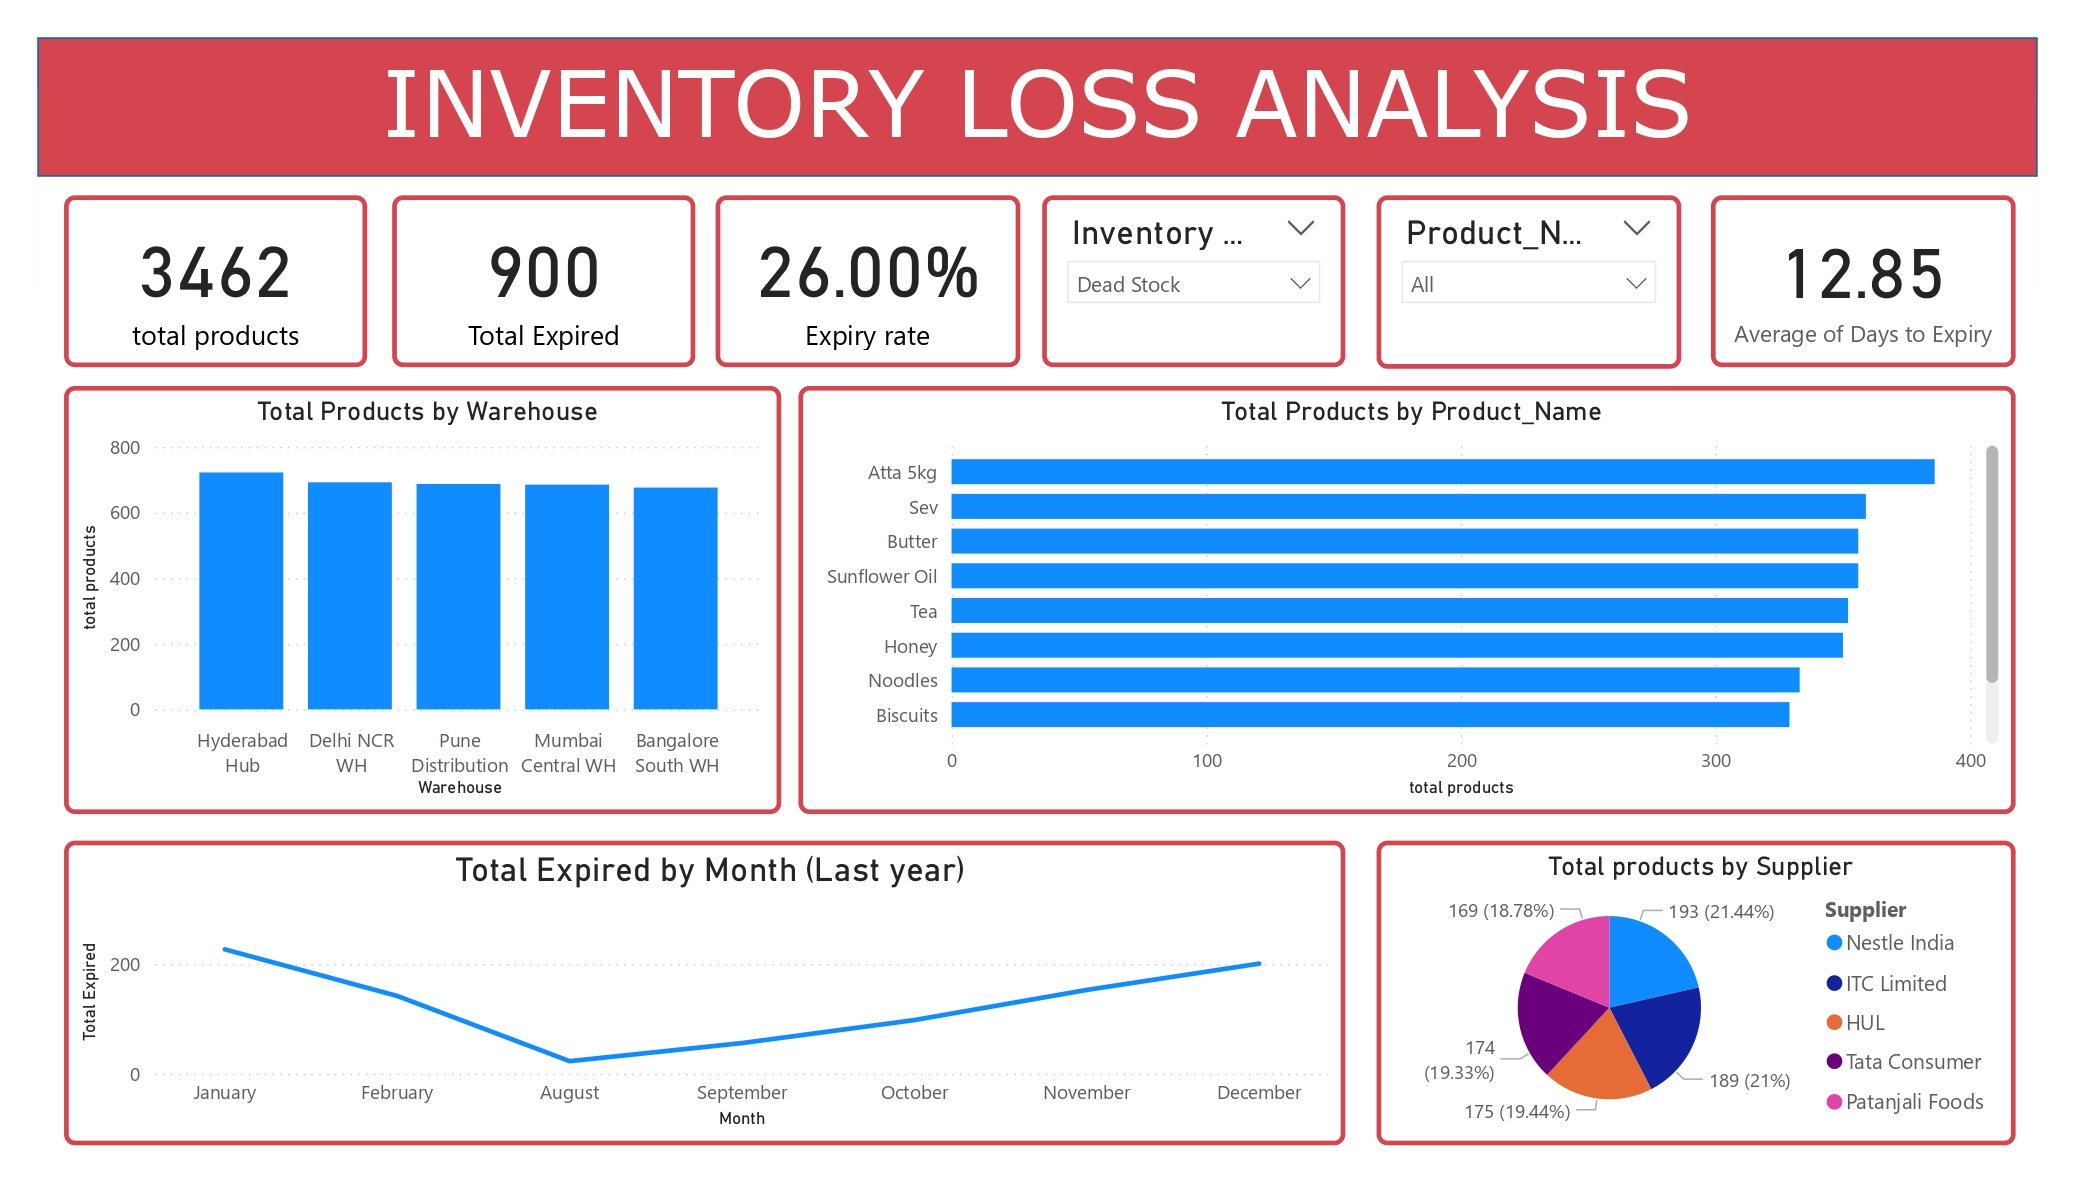

This screenshot's page, from the dashboard's own definition file:
{"tool":"powerbi","page":{"name":"Expired","canvas":[1280,720],"ordinal":0},"visuals":[{"type":"shape","box":[0,0,1279.7,89],"z":0},{"type":"textbox","box":[0,0,1279.7,81.9],"z":1000},{"type":"card","fields":{"Values":["Dead_Stock_Inventory_Dataset.total products"]},"box":[17.1,101.4,194.3,110],"z":2000},{"type":"card","fields":{"Values":["Dead_Stock_Inventory_Dataset.Total Expired"]},"box":[227.1,101.4,194.3,110],"z":3000},{"type":"card","fields":{"Values":["Dead_Stock_Inventory_Dataset.Expiry rate"]},"box":[434.3,101.4,194.3,110],"z":4000},{"type":"lineChart","title":"Total Expired by Month (Last year)","fields":{"Category":["Dead_Stock_Inventory_Dataset.Last_Sold_Date.Variation.Date Hierarchy.Month","Dead_Stock_Inventory_Dataset.Last_Sold_Date.Variation.Date Hierarchy.Day"],"Y":["Dead_Stock_Inventory_Dataset.Total Expired"]},"box":[17.1,514.3,820,194.3],"z":5000},{"type":"slicer","fields":{"Values":["Dead_Stock_Inventory_Dataset.Inventory Risk Level"]},"box":[642.9,101.2,194.1,110],"z":6000},{"type":"columnChart","title":"Total Products by Warehouse","fields":{"Category":["Warehouse.Warehouse"],"Y":["Dead_Stock_Inventory_Dataset.total products"]},"box":[17.1,222.9,458.6,274.3],"z":7000},{"type":"clusteredBarChart","title":"Total Products by Product_Name","fields":{"Category":["Products.Product_Name"],"Y":["Dead_Stock_Inventory_Dataset.total products"]},"box":[487.1,222.9,778.6,274.3],"z":8000},{"type":"card","fields":{"Values":["Avg(Dead_Stock_Inventory_Dataset.Days to Expiry)"]},"box":[1071.4,101.4,194.3,110],"z":9000},{"type":"pieChart","title":"Total products by Supplier","fields":{"Category":["Supplier.Supplier"],"Y":["Dead_Stock_Inventory_Dataset.Total Expired"]},"box":[857.1,514.3,408.6,194.3],"z":10000},{"type":"slicer","fields":{"Values":["Products.Product_Name"]},"box":[857.2,101.5,194.4,110.1],"z":11000}]}

Visuals, with their boxes on the page's 1280x720 design canvas (x1, y1, x2, y2). These are canvas units, not pixel positions in the 2075x1200 screenshot, which may show the page scaled, cropped or inside an application window:
shape: [left=0, top=0, right=1280, bottom=89]
textbox: [left=0, top=0, right=1280, bottom=82]
card - Dead_Stock_Inventory_Dataset.total products: [left=17, top=101, right=211, bottom=211]
card - Dead_Stock_Inventory_Dataset.Total Expired: [left=227, top=101, right=421, bottom=211]
card - Dead_Stock_Inventory_Dataset.Expiry rate: [left=434, top=101, right=629, bottom=211]
"Total Expired by Month (Last year)" lineChart: [left=17, top=514, right=837, bottom=709]
slicer - Dead_Stock_Inventory_Dataset.Inventory Risk Level: [left=643, top=101, right=837, bottom=211]
"Total Products by Warehouse" columnChart: [left=17, top=223, right=476, bottom=497]
"Total Products by Product_Name" clusteredBarChart: [left=487, top=223, right=1266, bottom=497]
card - Avg(Dead_Stock_Inventory_Dataset.Days to Expiry): [left=1071, top=101, right=1266, bottom=211]
"Total products by Supplier" pieChart: [left=857, top=514, right=1266, bottom=709]
slicer - Products.Product_Name: [left=857, top=102, right=1052, bottom=212]
